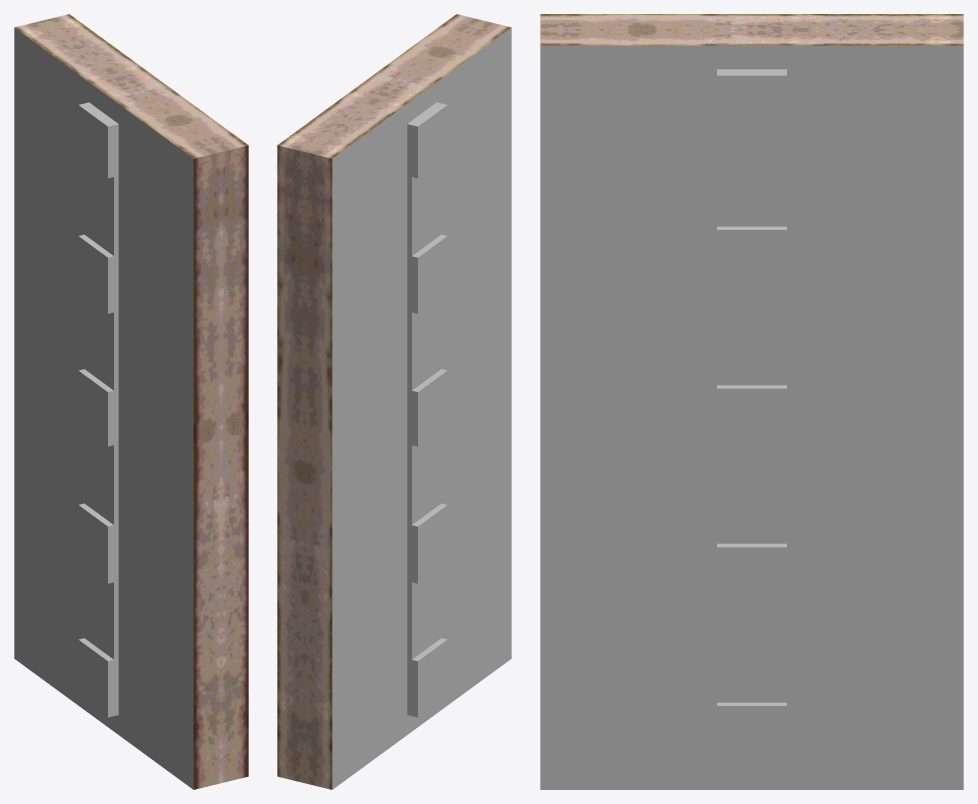
Rendered from Door_01.fbx.
The picture shows the model from 3 angles, left to right: view 1: azimuth 30°, elevation 25°; view 2: azimuth 150°, elevation 25°; view 3: azimuth 270°, elevation 25°; orthographic projection. The views are drawn at different scales.
Visible parts, largest first — view 1: Door; view 2: Door; view 3: Door.
Boxes of the visible parts, x1,y1,x2,y2 form: Door: [14, 14, 248, 789]; Door: [277, 14, 511, 789]; Door: [540, 14, 963, 789].
Size of the model in its own units: 66.94 by 528 by 272.
